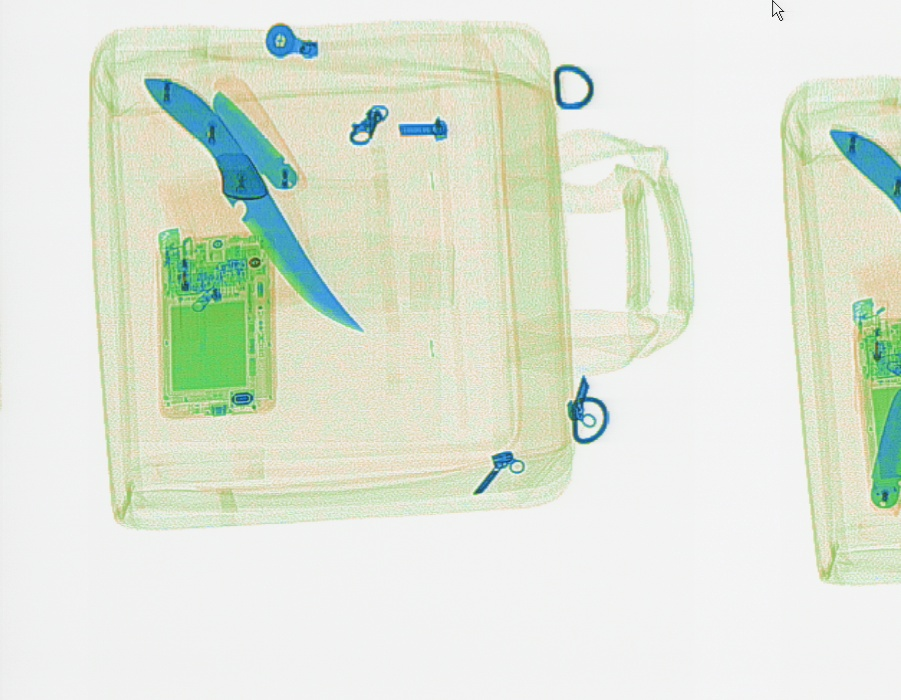knife: (139, 70, 368, 337), (207, 70, 307, 199), (825, 120, 899, 220), (864, 381, 899, 518)
lighter: (849, 293, 893, 431), (151, 224, 196, 345)
